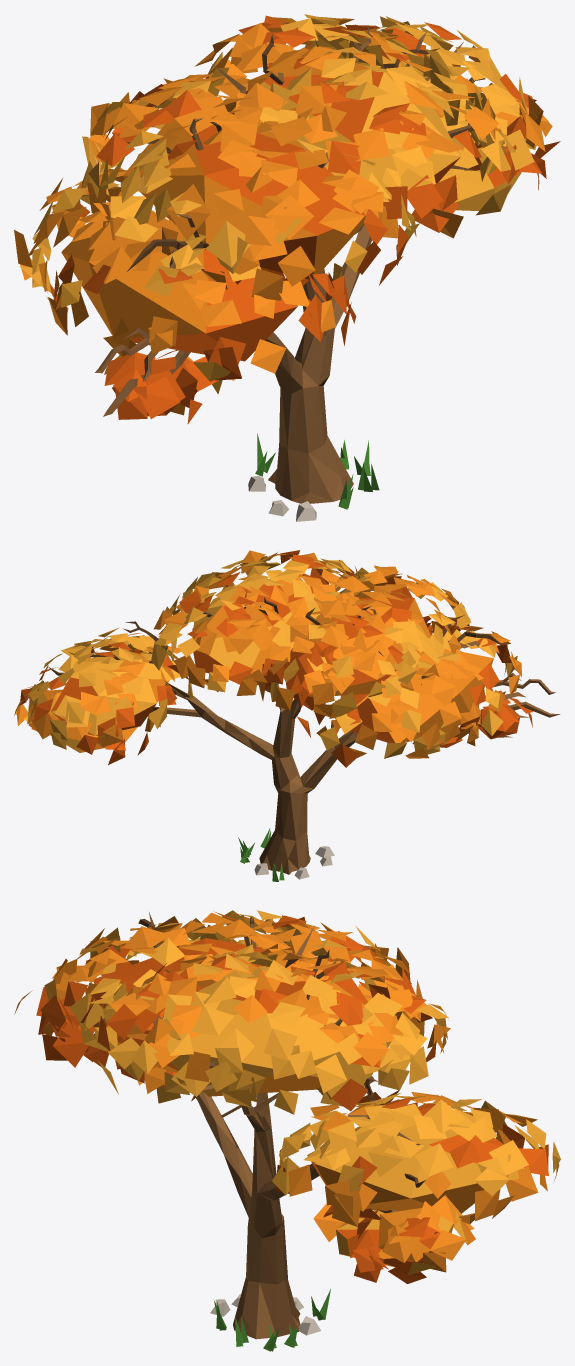
File: guayacan_2_autumn.glb
The picture shows the model from 3 angles, top to bottom: view 1: azimuth 30°, elevation 25°; view 2: azimuth 150°, elevation 25°; view 3: azimuth 270°, elevation 25°; orthographic projection. The views are drawn at different scales.
Parts seen in each view (by area): view 1: guayacan_2_autumn; view 2: guayacan_2_autumn; view 3: guayacan_2_autumn.
Part boxes in pixels (x1,y1,x2,y2): guayacan_2_autumn: (14,14,560,521); guayacan_2_autumn: (14,550,560,881); guayacan_2_autumn: (14,910,560,1351).
Bounding box in the file's own units: 9.67 × 6.3 × 8.3.
